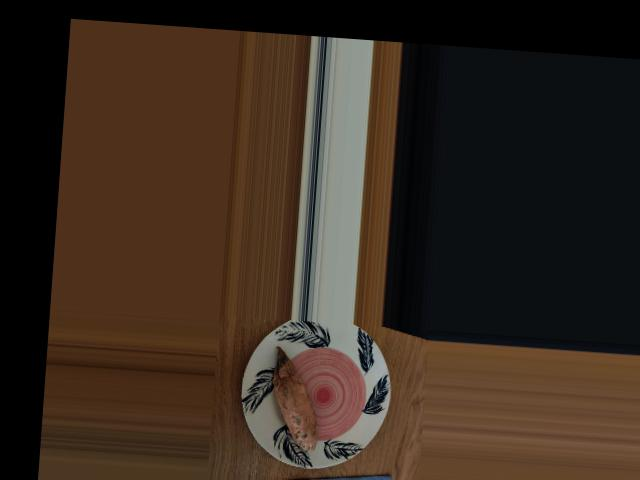sweet_potato: (268, 356, 326, 445)
